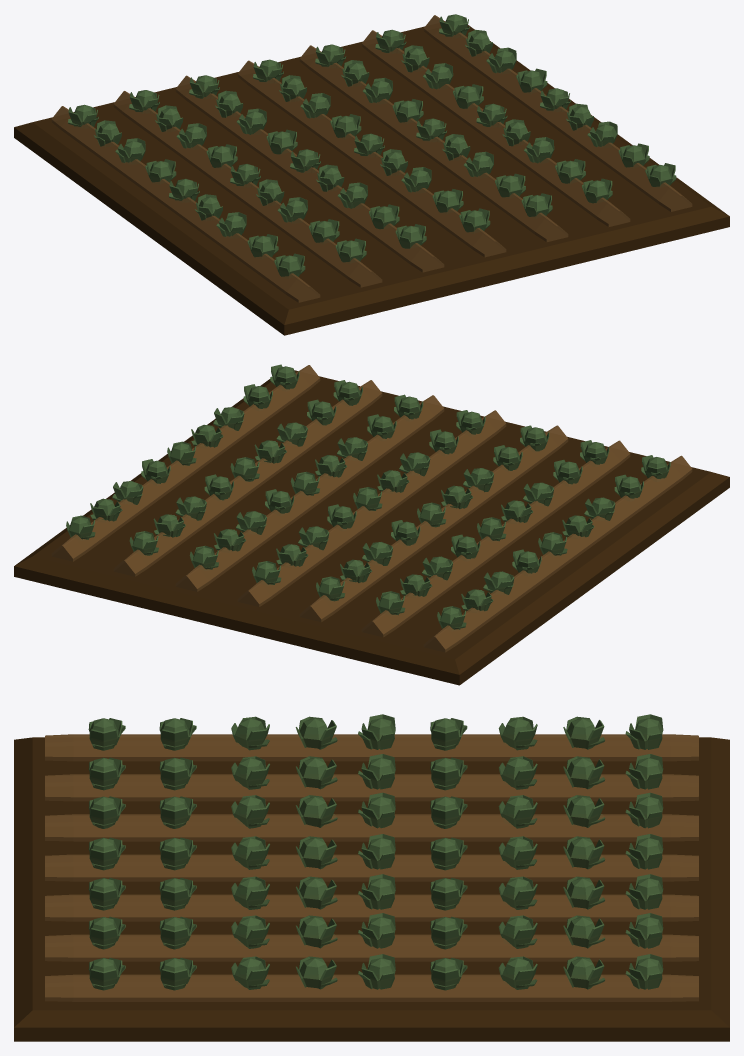
Rendered from FarmCabbage.fbx.
3 renders of one model, top to bottom at view 1: azimuth 30°, elevation 25°; view 2: azimuth 150°, elevation 25°; view 3: azimuth 270°, elevation 25°, orthographic. The views are drawn at different scales.
Parts seen in each view (by area): view 1: FarmCabbage; view 2: FarmCabbage; view 3: FarmCabbage.
Boxes of the visible parts, bbox=[...] form: FarmCabbage: bbox=[14, 14, 729, 335]; FarmCabbage: bbox=[14, 364, 729, 685]; FarmCabbage: bbox=[14, 714, 729, 1041].
Size of the model in its own units: 595 by 58.29 by 626.
